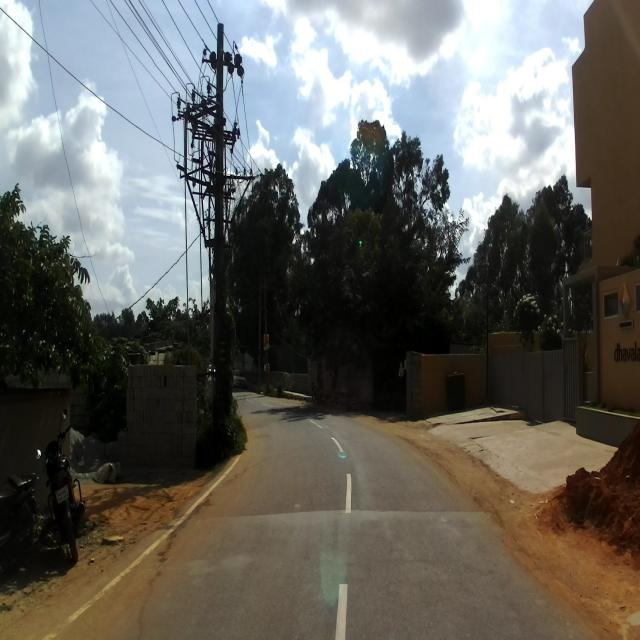motorcycle_Honda: (35, 404, 87, 564)
